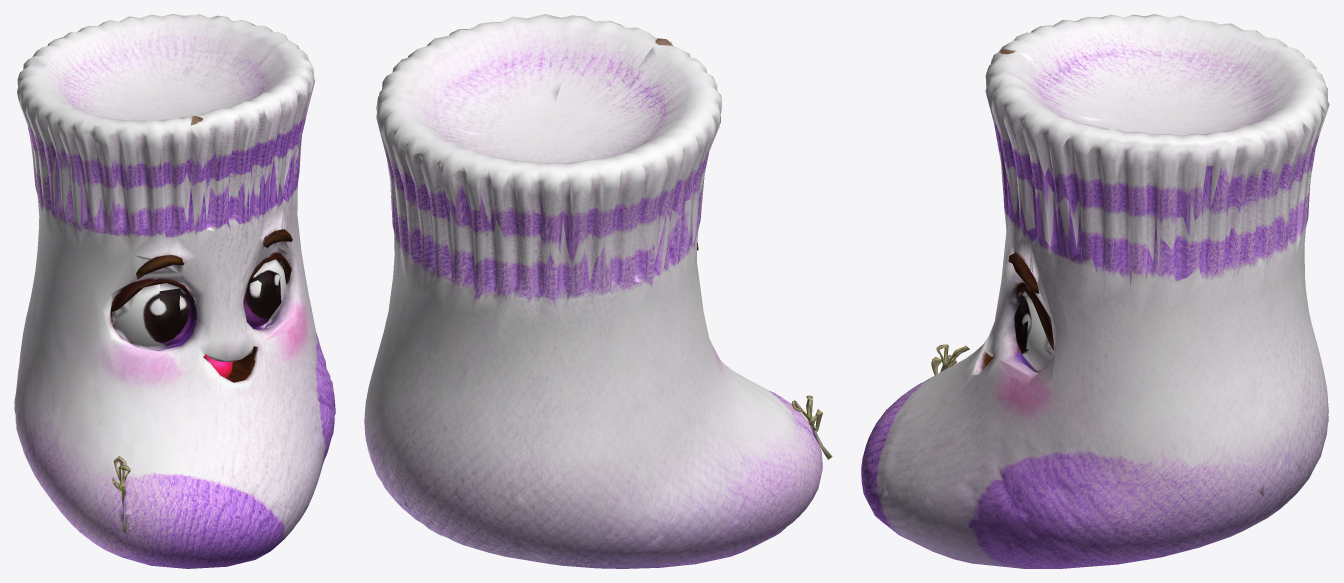
File: sock_v2_tripo.glb
3 renders of one model, left to right at view 1: azimuth 30°, elevation 25°; view 2: azimuth 150°, elevation 25°; view 3: azimuth 270°, elevation 25°, orthographic. The views are drawn at different scales.
Visible parts, largest first — view 1: tripo_node_e7e27f0a-8438-4e36-b304-097b2398b0ca; view 2: tripo_node_e7e27f0a-8438-4e36-b304-097b2398b0ca; view 3: tripo_node_e7e27f0a-8438-4e36-b304-097b2398b0ca.
Part boxes in pixels (x1=…): tripo_node_e7e27f0a-8438-4e36-b304-097b2398b0ca: x1=14, y1=14, x2=335, y2=568; tripo_node_e7e27f0a-8438-4e36-b304-097b2398b0ca: x1=364, y1=14, x2=832, y2=568; tripo_node_e7e27f0a-8438-4e36-b304-097b2398b0ca: x1=861, y1=14, x2=1329, y2=568.
Bounding box in the file's own units: 0.729 × 0.9803 × 0.8613.
1 material, 1 textured.
